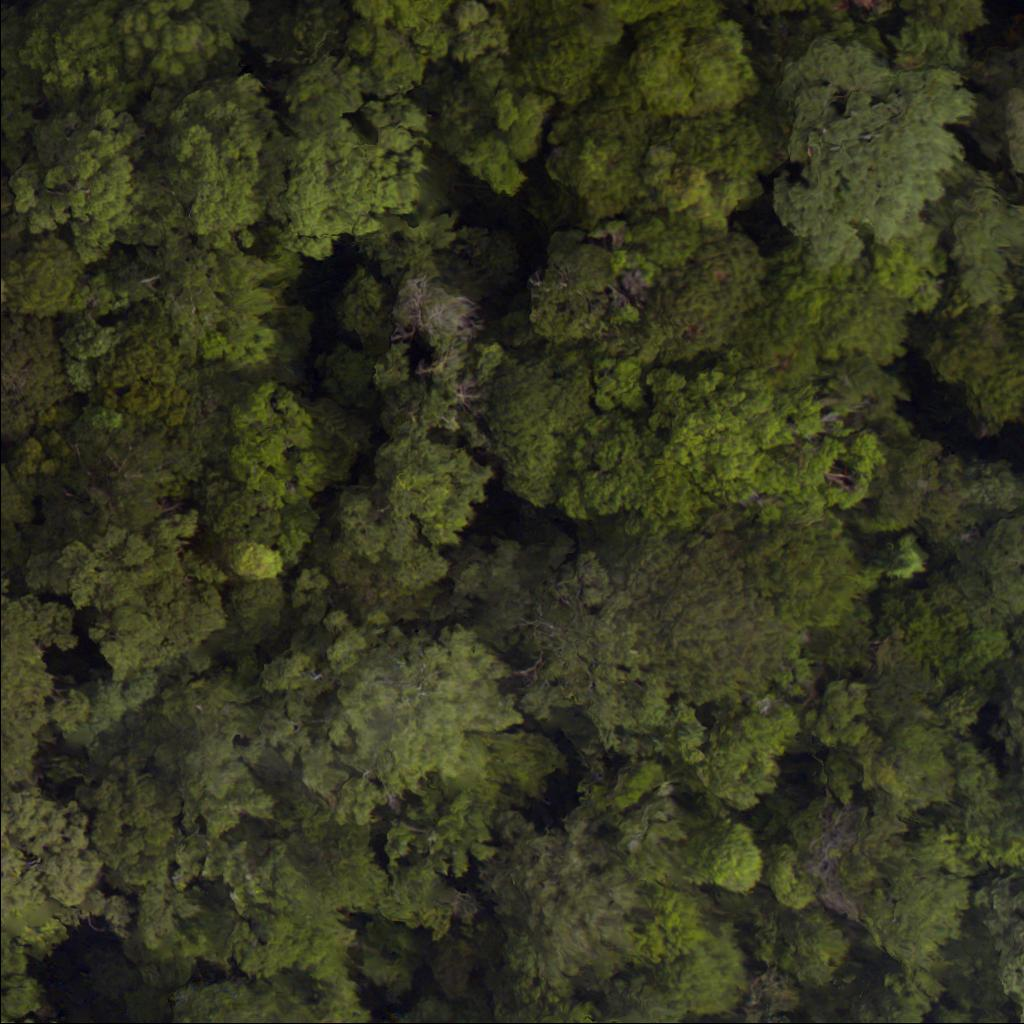crown: (34, 515, 231, 684), (0, 109, 157, 259), (164, 72, 281, 232), (0, 573, 85, 789), (44, 420, 197, 527), (228, 386, 353, 498), (11, 0, 138, 110), (277, 128, 377, 248), (101, 316, 190, 429), (134, 0, 257, 70), (0, 319, 69, 432), (3, 238, 88, 316), (151, 983, 315, 1023), (290, 50, 362, 127), (233, 545, 280, 576)
